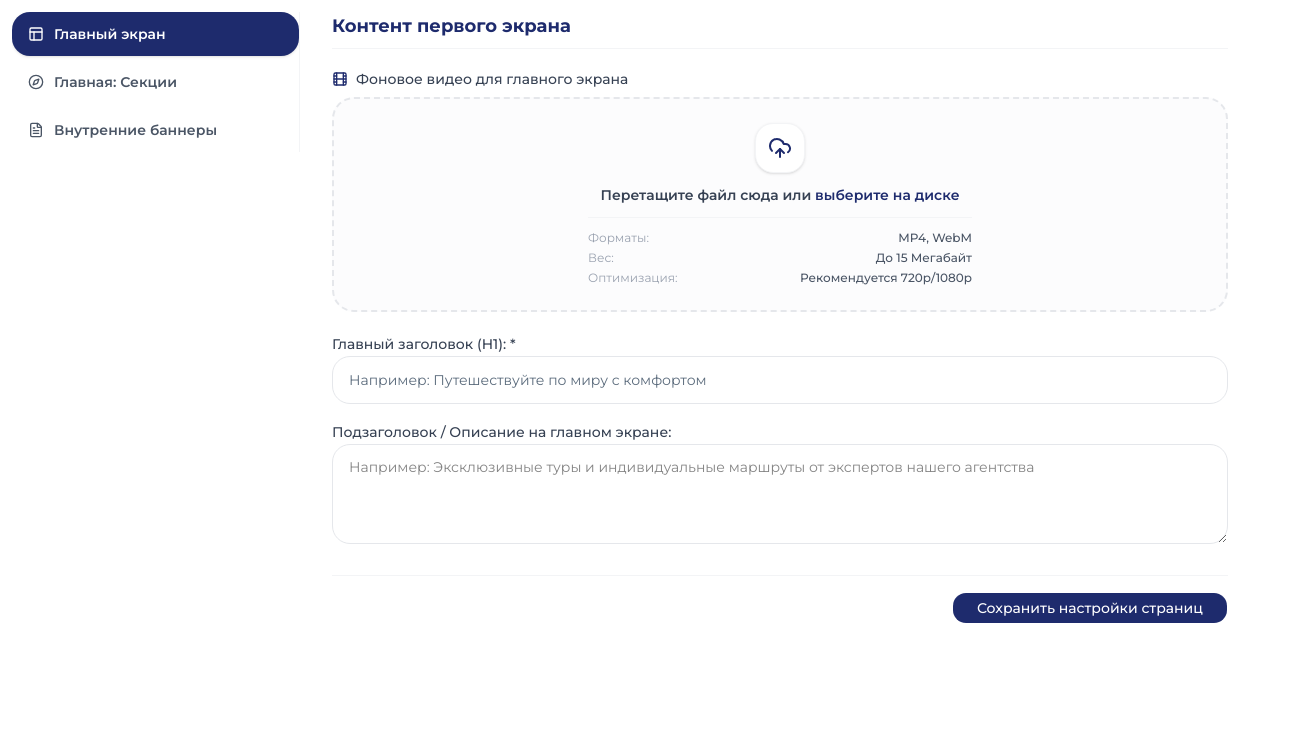
HomepageSettingsForm › требует заголовок hero
The width and height of the screenshot is (1292, 732).
Click the button "Сохранить настройки страниц". click: (1090, 608)
box: [952, 592, 1228, 624]
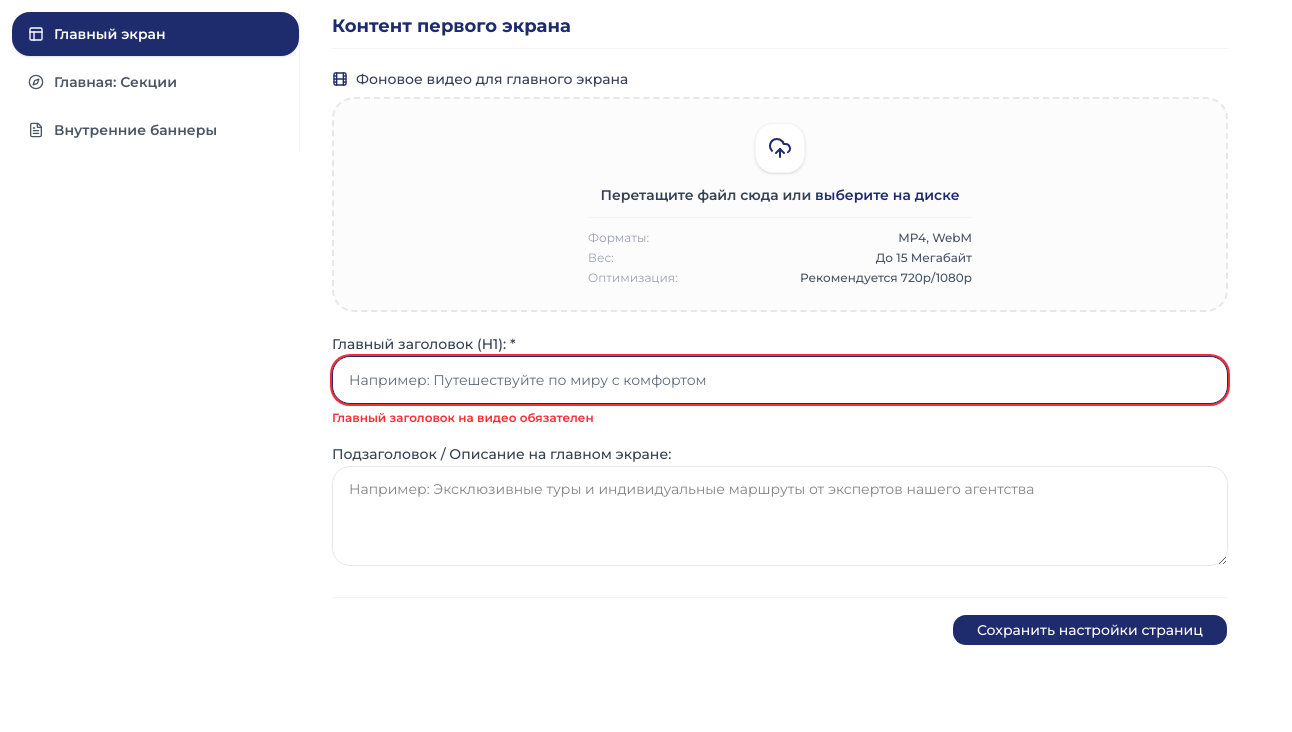
Now the text "Главный заголовок на видео обязателен" is shown, box [332, 410, 594, 425]
